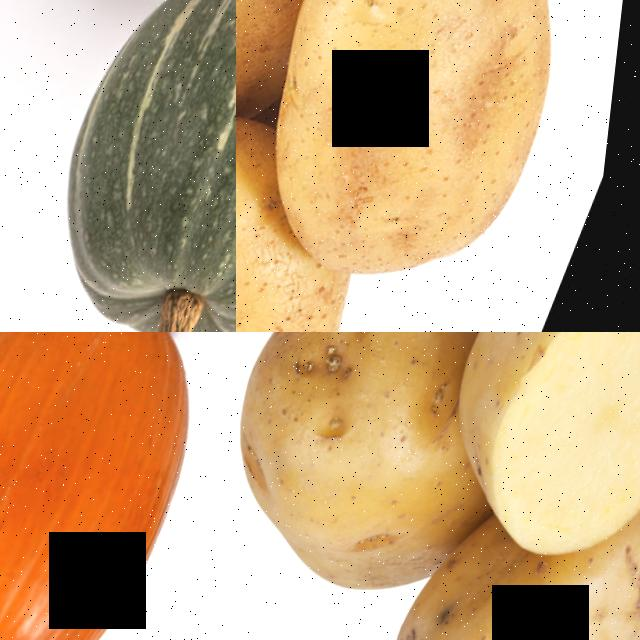potato: (236, 0, 633, 313), (236, 332, 514, 604), (413, 332, 640, 580), (236, 97, 403, 332), (359, 505, 640, 640)
pumpkin: (0, 0, 236, 332), (0, 332, 236, 640)
